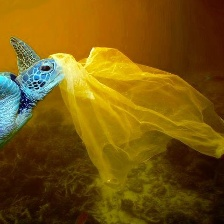plastic_bag: (47, 40, 223, 193)
